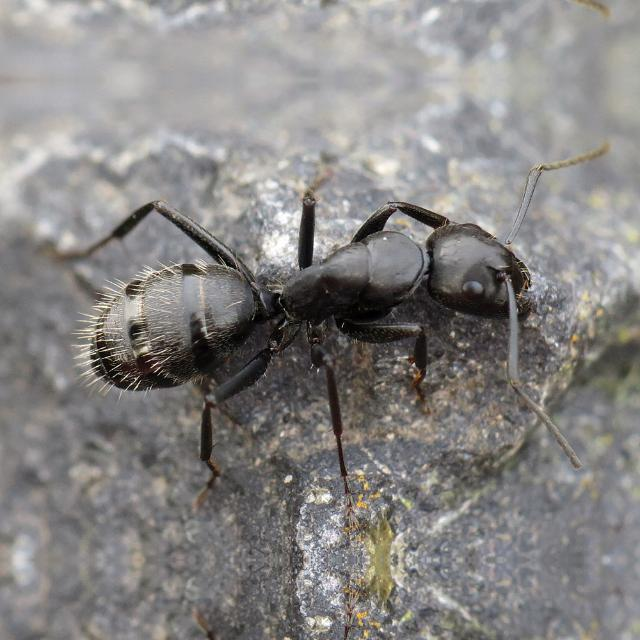Camponotus: (39, 140, 587, 480)
